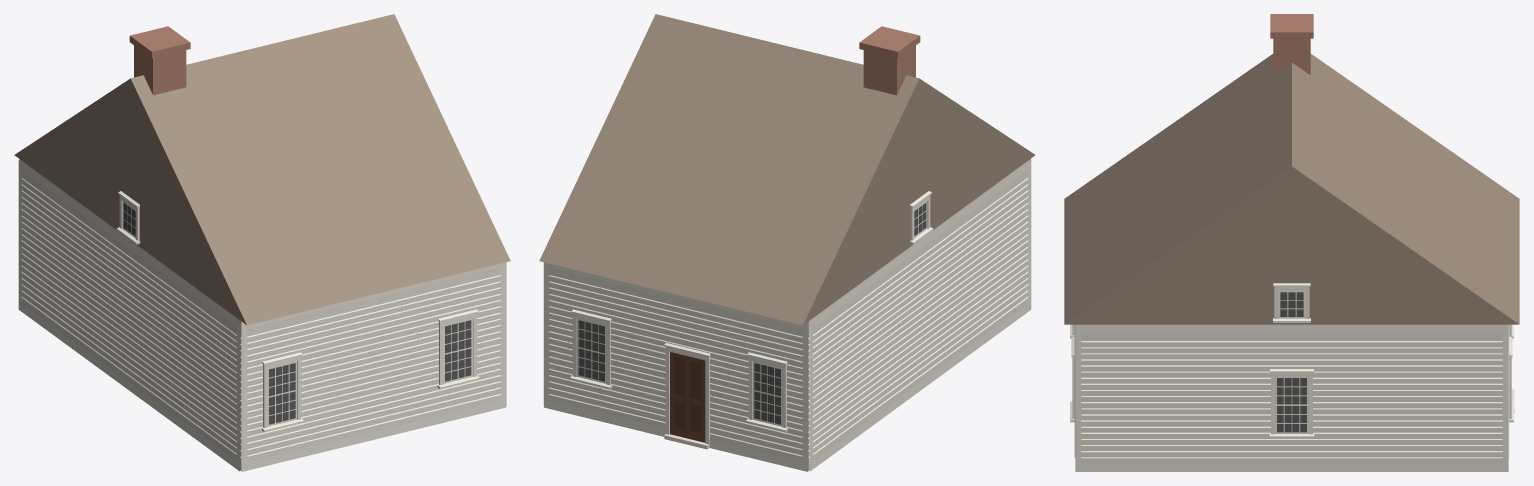
File: recon_1835_west_034__inferred_1835.glb
The picture shows the model from 3 angles, left to right: view 1: azimuth 30°, elevation 25°; view 2: azimuth 150°, elevation 25°; view 3: azimuth 270°, elevation 25°; orthographic projection. The views are drawn at different scales.
Parts seen in each view (by area): view 1: recon_1835_west_034__inferred_1835; view 2: recon_1835_west_034__inferred_1835; view 3: recon_1835_west_034__inferred_1835.
Part boxes in pixels (x1,y1,x2,y2): recon_1835_west_034__inferred_1835: (14,14,510,471); recon_1835_west_034__inferred_1835: (539,14,1035,471); recon_1835_west_034__inferred_1835: (1064,14,1519,471).
Size of the model in its own units: 6.93 by 8.36 by 10.25.
